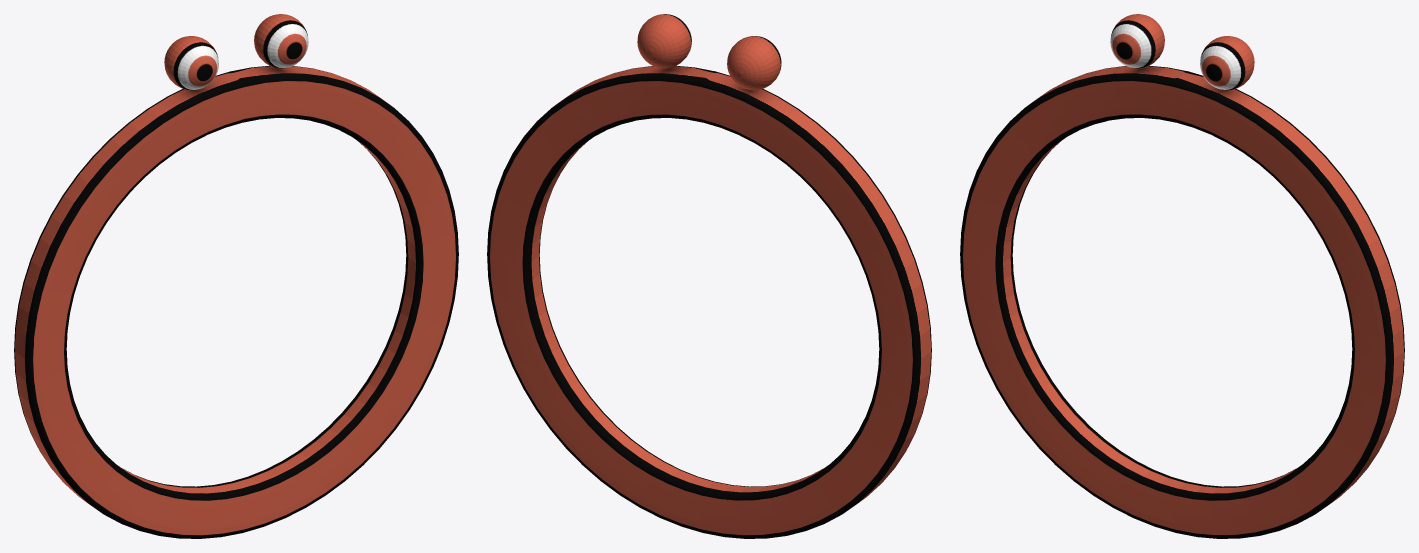
File: RING.glb
The picture shows the model from 3 angles, left to right: view 1: azimuth 30°, elevation 25°; view 2: azimuth 150°, elevation 25°; view 3: azimuth 330°, elevation 25°; orthographic projection.
Parts seen in each view (by area): view 1: Tube.001, Sphere.001; view 2: Tube.001, Sphere.001; view 3: Tube.001, Sphere.001.
Part boxes in pixels (x1=…): Tube.001: x1=14, y1=65, x2=458, y2=538; Sphere.001: x1=164, y1=14, x2=308, y2=90; Tube.001: x1=487, y1=65, x2=931, y2=538; Sphere.001: x1=637, y1=14, x2=781, y2=90; Tube.001: x1=960, y1=65, x2=1404, y2=538; Sphere.001: x1=1110, y1=14, x2=1254, y2=90.
Bounding box in the file's own units: 1.97 × 2.18 × 0.2211.
Materials: 1 (1 with a texture image).
